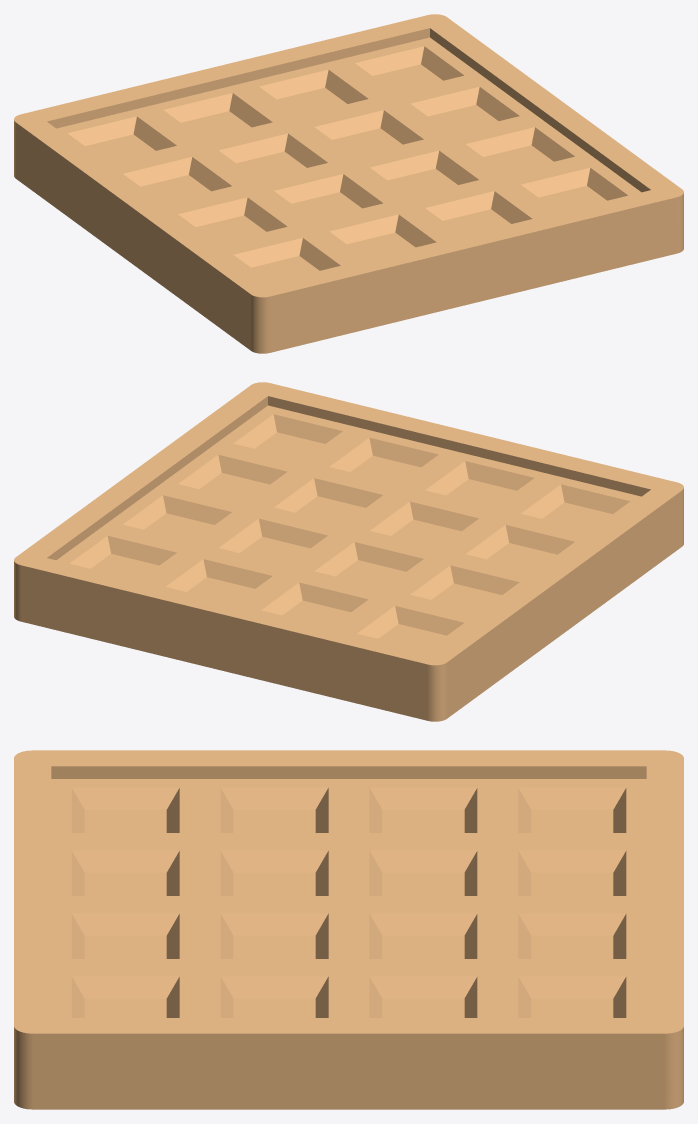
Rendered from waffle.fbx.
3 views of the same model, one above another, from view 1: azimuth 30°, elevation 25°; view 2: azimuth 150°, elevation 25°; view 3: azimuth 270°, elevation 25° (orthographic). The views are drawn at different scales.
Visible parts, largest first — view 1: waffle; view 2: waffle; view 3: waffle.
Part boxes in pixels (<box>): waffle: <box>14,14,683,353</box>; waffle: <box>14,382,683,721</box>; waffle: <box>14,750,683,1109</box>.
Bounding box in the file's own units: 3.2 × 0.4005 × 3.2.
